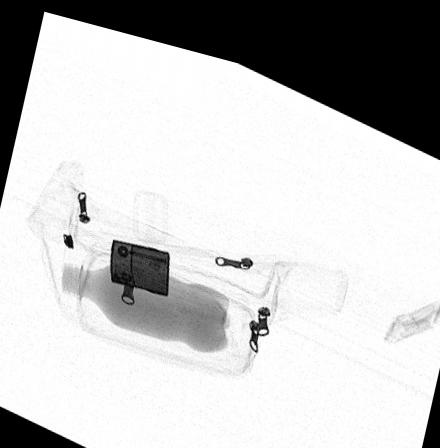Lighter: (108, 231, 170, 287)
